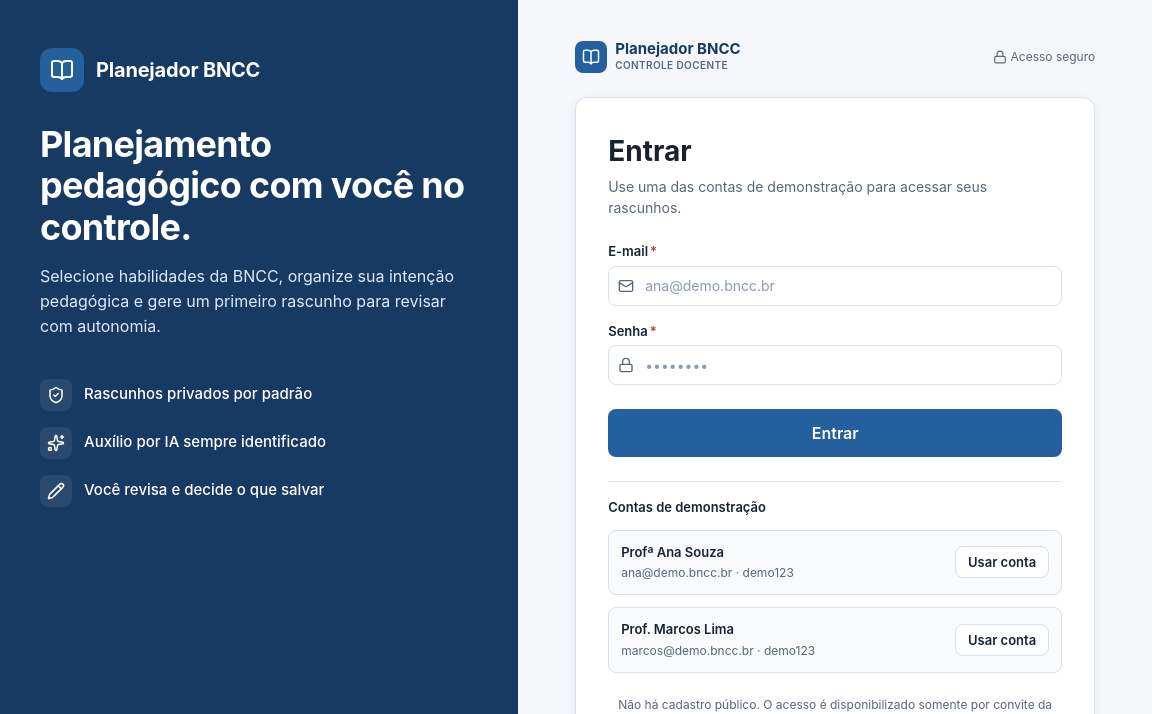
Scenario: Login Page Component (T042 / US1) › deve preencher credenciais ao clicar no atalho da Profª Ana Souza
The width and height of the screenshot is (1152, 714).
// Clicar no primeiro botão (Ana Souza)
Click the button "Usar conta" in the row of "ana@demo.bncc.br · demo123": [1002, 562] box [955,546,1049,578]
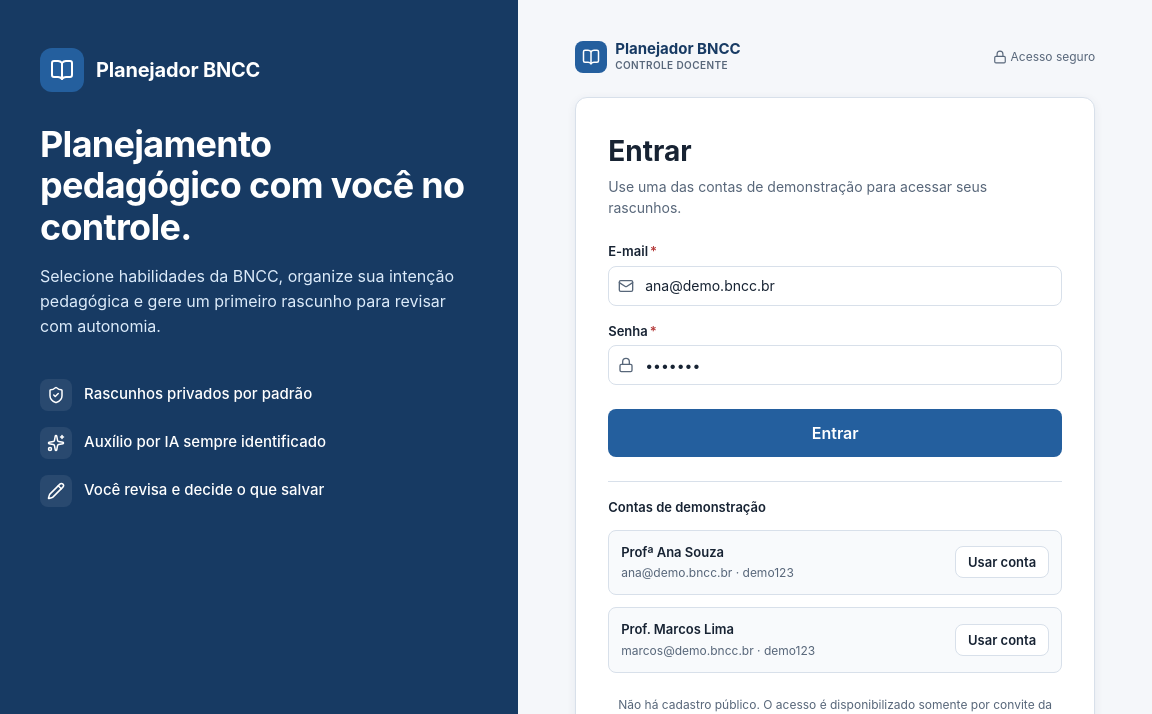
Check: the field labelled "E-mail*" holds "ana@demo.bncc.br", box [608,266,1062,306]
Check: the password field labelled "Senha*" holds "demo123", box [608,345,1062,385]
